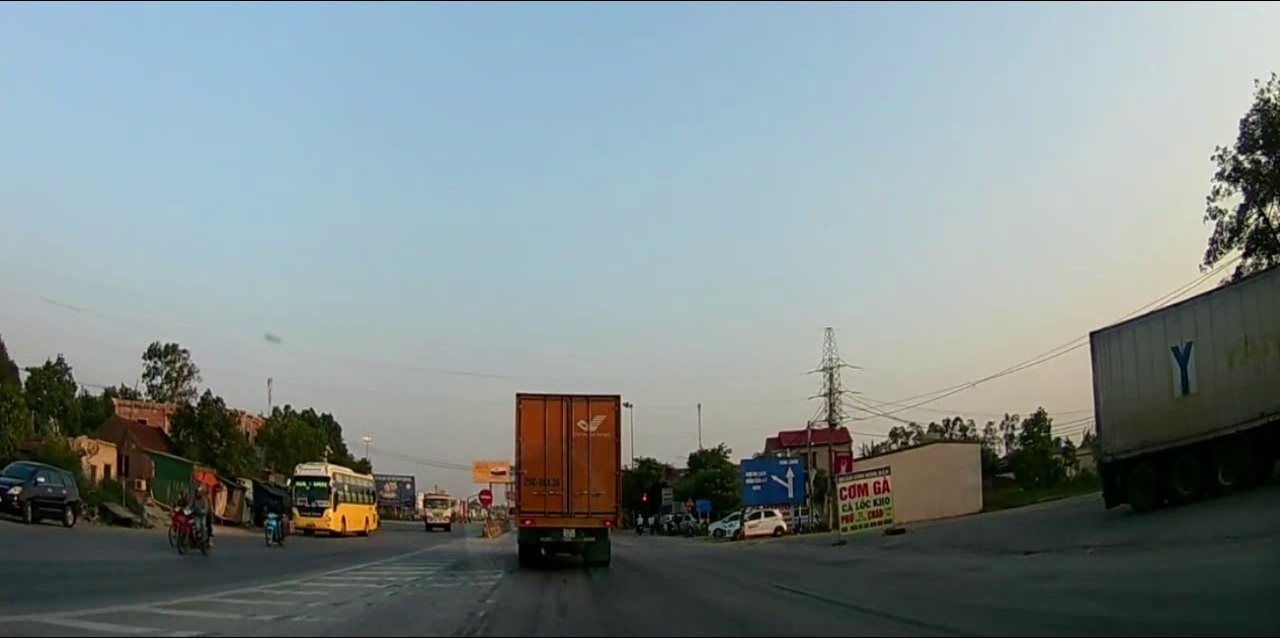Bien khac: (733, 455, 805, 505)
Cam di nguoc chieu: (477, 488, 495, 506)
